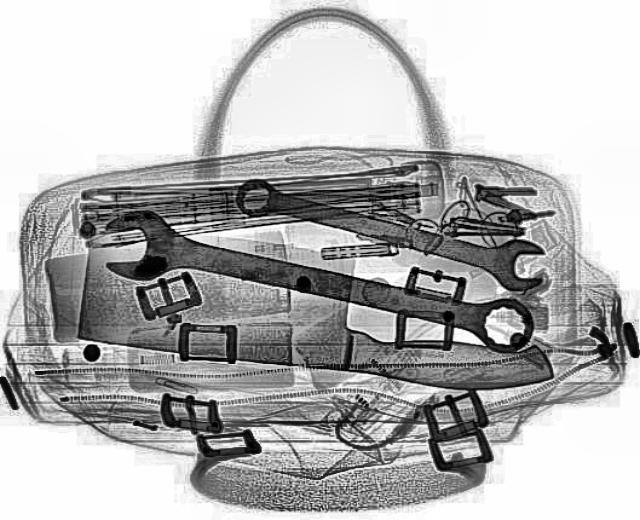Knife: (66, 220, 574, 400)
Wrench: (86, 202, 542, 364), (225, 168, 557, 296)
